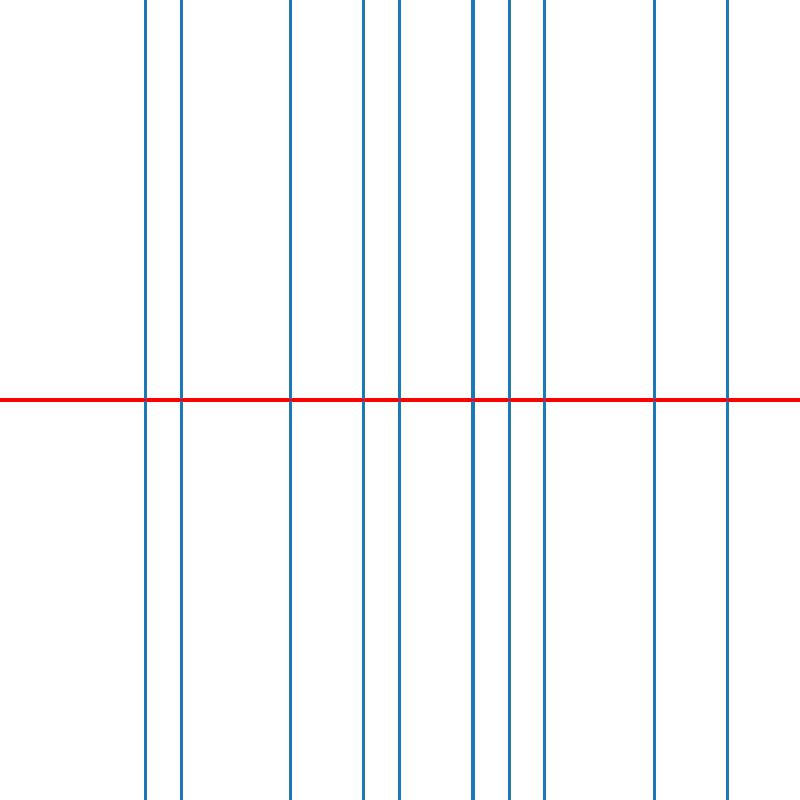root: (650, 396, 658, 404), (541, 396, 549, 404), (141, 396, 149, 404), (396, 396, 403, 404), (723, 396, 730, 404), (178, 396, 185, 404), (287, 396, 294, 404), (360, 396, 367, 404), (469, 396, 476, 404), (505, 396, 512, 404)
